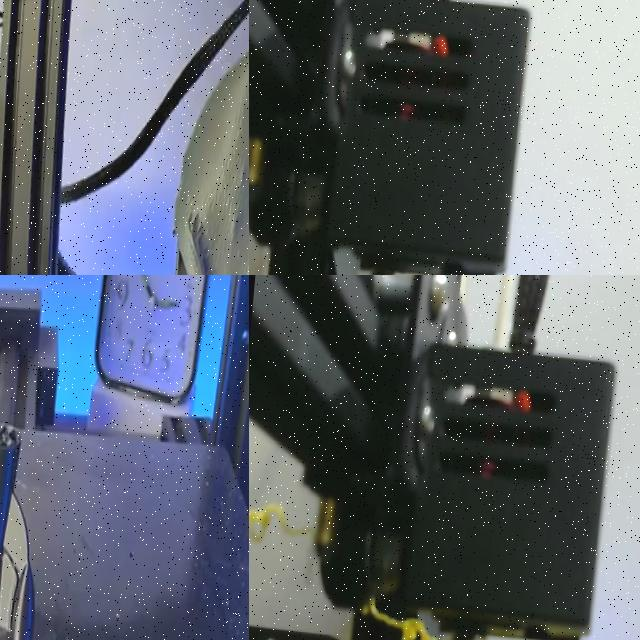spaghetti: (249, 506, 305, 540)
